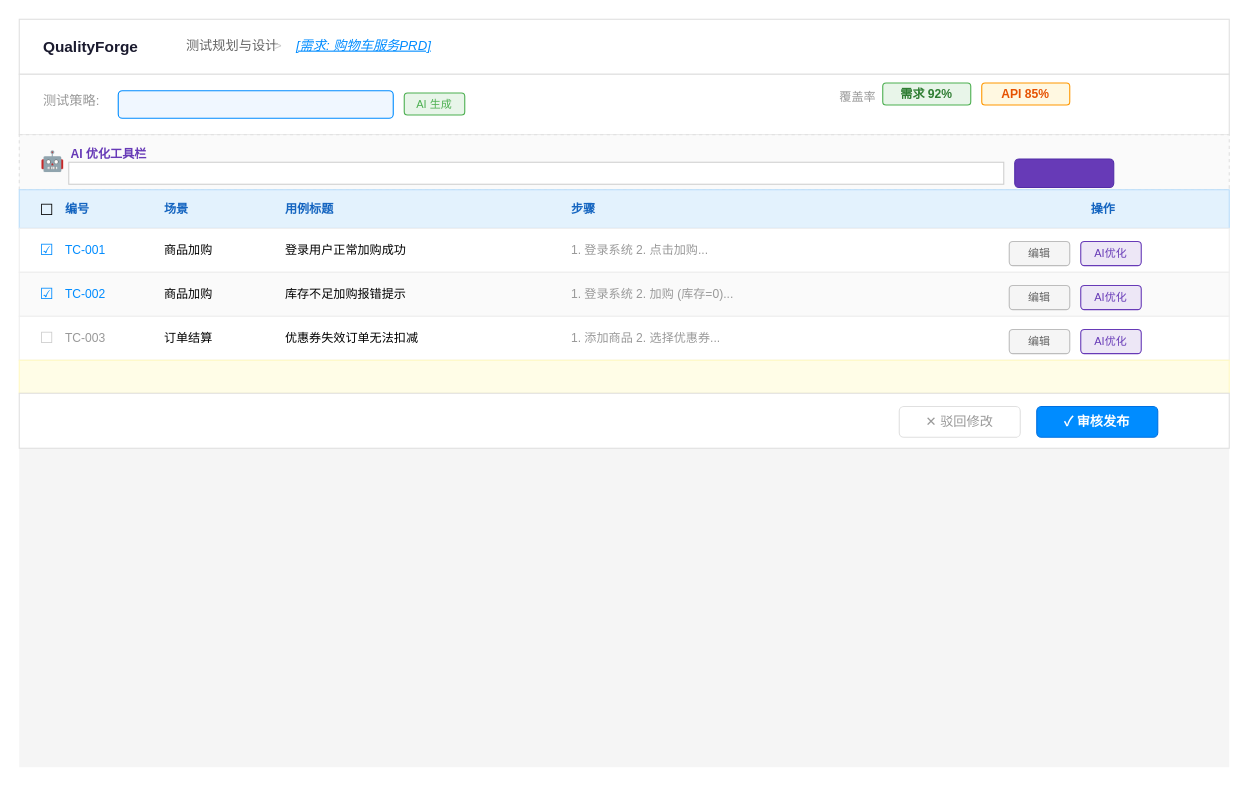
This 1249x787 diagram has some shape labels left out. The shapes that lost their labels are listed below. From the top down, each one's box as (x1, y1, x2, y2) in pixels, then its label:
(117, 90, 393, 118): 购物车核心功能回归策略
(68, 161, 1004, 184): 输入要求: 让所有用例都包含异常网络重试断言...
(1014, 158, 1114, 188): 执行重生成
(18, 359, 1229, 393): 备注: 选中了 2/3 条用例。
